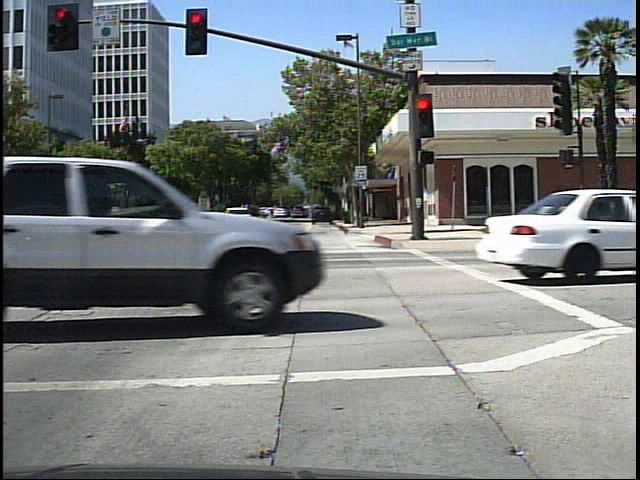person: (266, 205, 279, 224)
